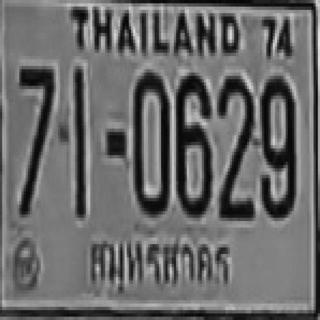N00: (131, 69, 168, 211)
N01: (72, 66, 85, 214)
N02: (216, 73, 252, 218)
N06: (174, 71, 210, 213)
N07: (17, 63, 54, 214)
N09: (260, 73, 294, 214)
P58: (84, 224, 236, 308)
